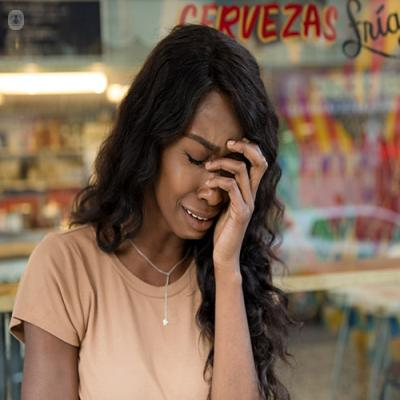sad: (161, 77, 248, 241)
